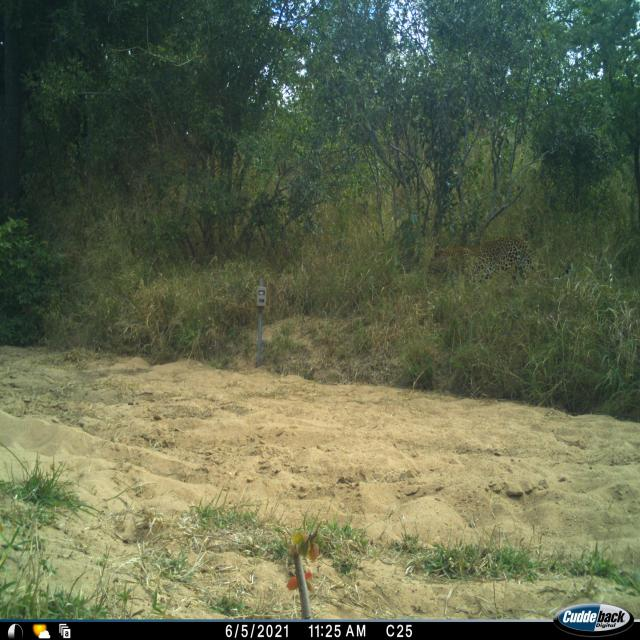Leopard: (426, 236, 576, 290)
